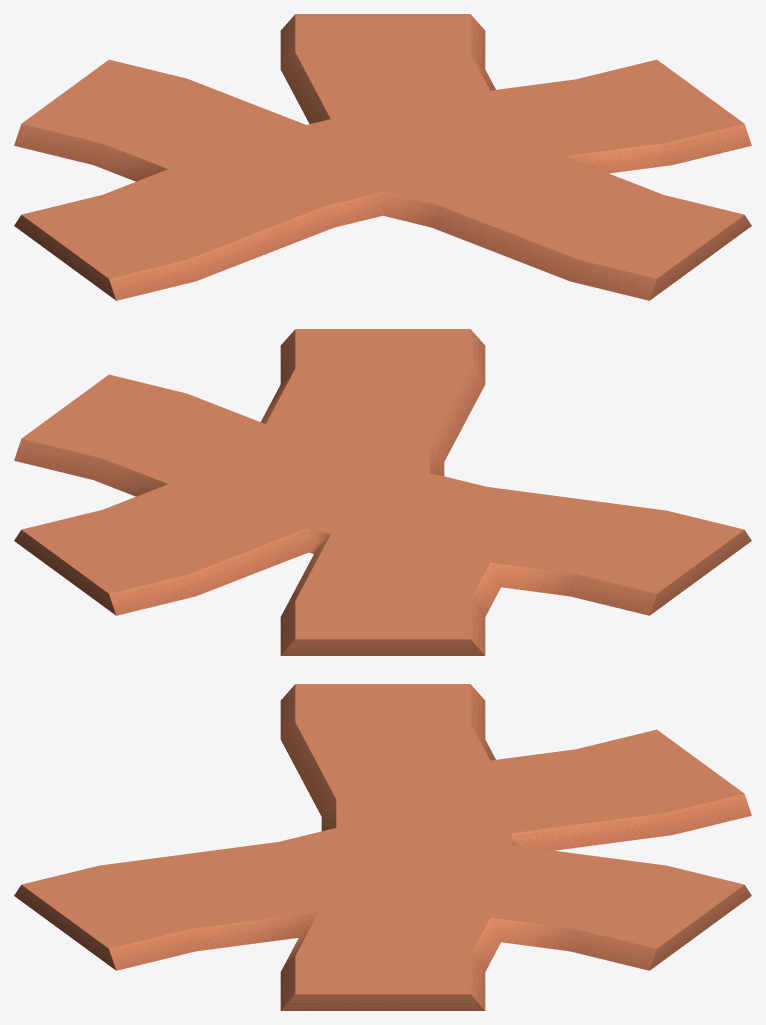
File: path-intersectionG.glb
3 views of the same model, one above another, from view 1: azimuth 30°, elevation 25°; view 2: azimuth 150°, elevation 25°; view 3: azimuth 270°, elevation 25° (orthographic).
Parts seen in each view (by area): view 1: path-intersectionG; view 2: path-intersectionG; view 3: path-intersectionG.
Boxes of the visible parts, <box> form: path-intersectionG: <box>14,14,751,300</box>; path-intersectionG: <box>14,329,751,655</box>; path-intersectionG: <box>14,684,751,1010</box>.
Bounding box in the file's own units: 1 × 0.025 × 1.01.
1 material, 1 textured.
